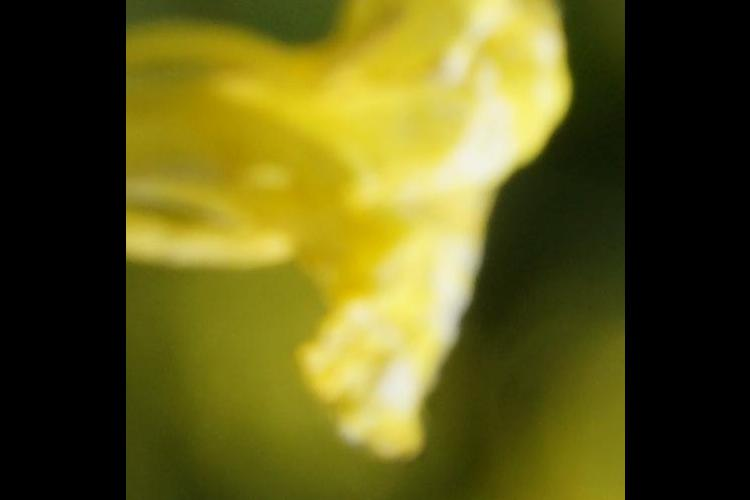yellow: (145, 1, 553, 447)
